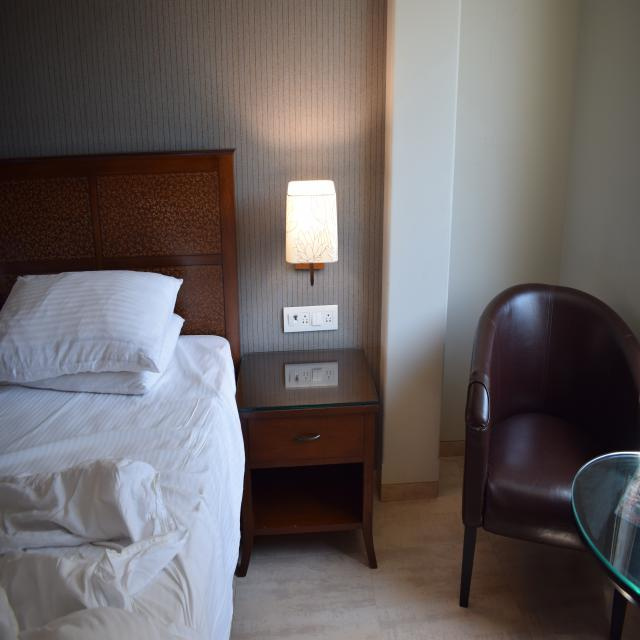mess: (0, 213, 230, 640)
